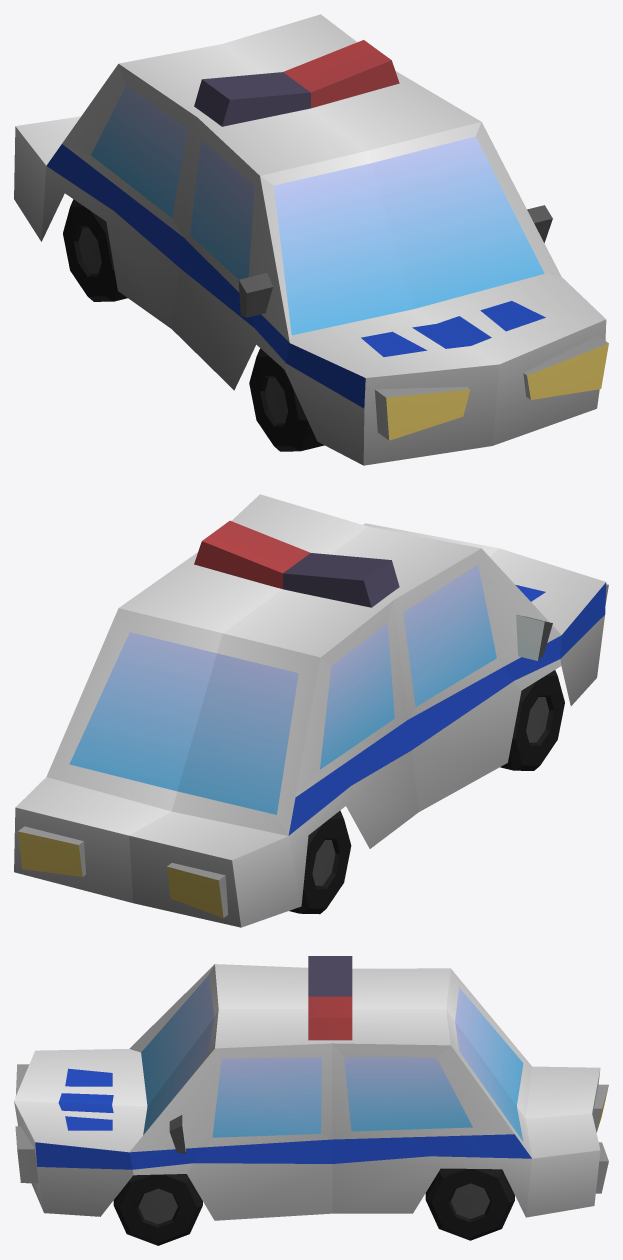
File: police_small.fbx
3 views of the same model, one above another, from view 1: azimuth 30°, elevation 25°; view 2: azimuth 150°, elevation 25°; view 3: azimuth 270°, elevation 25° (orthographic). The views are drawn at different scales.
Parts seen in each view (by area): view 1: ps_base.001; view 2: ps_base.001; view 3: ps_base.001.
Boxes of the visible parts, <box> form: ps_base.001: <box>14,14,608,465</box>; ps_base.001: <box>14,494,608,927</box>; ps_base.001: <box>14,956,608,1245</box>.
Bounding box in the file's own units: 203 × 171 × 438.
